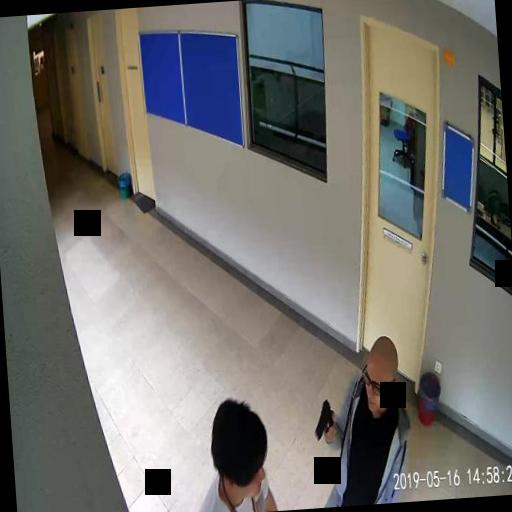Handgun: (311, 397, 335, 439)
